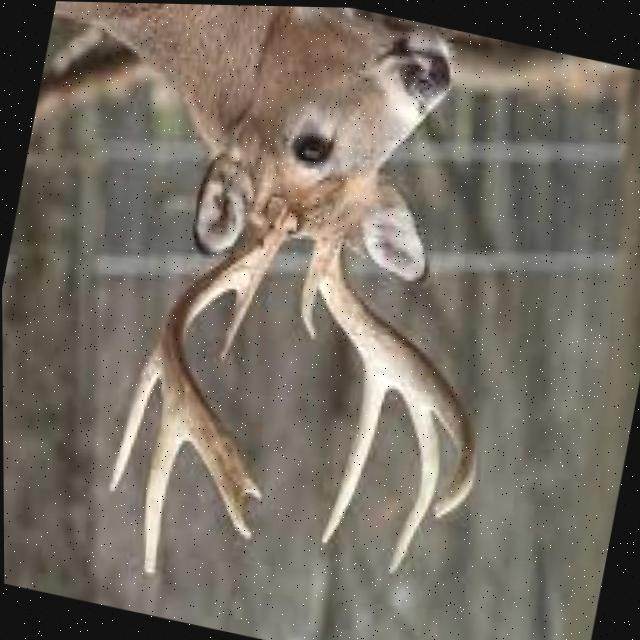E1: (217, 484, 252, 541)
L-F: (161, 196, 298, 504)
L-G1: (217, 281, 262, 363)
L-G2: (107, 333, 162, 495)
L-G3: (143, 403, 184, 576)
R-F: (312, 226, 476, 518)
R-G1: (301, 260, 325, 342)
R-G2: (320, 368, 387, 543)
R-G3: (387, 387, 439, 576)
